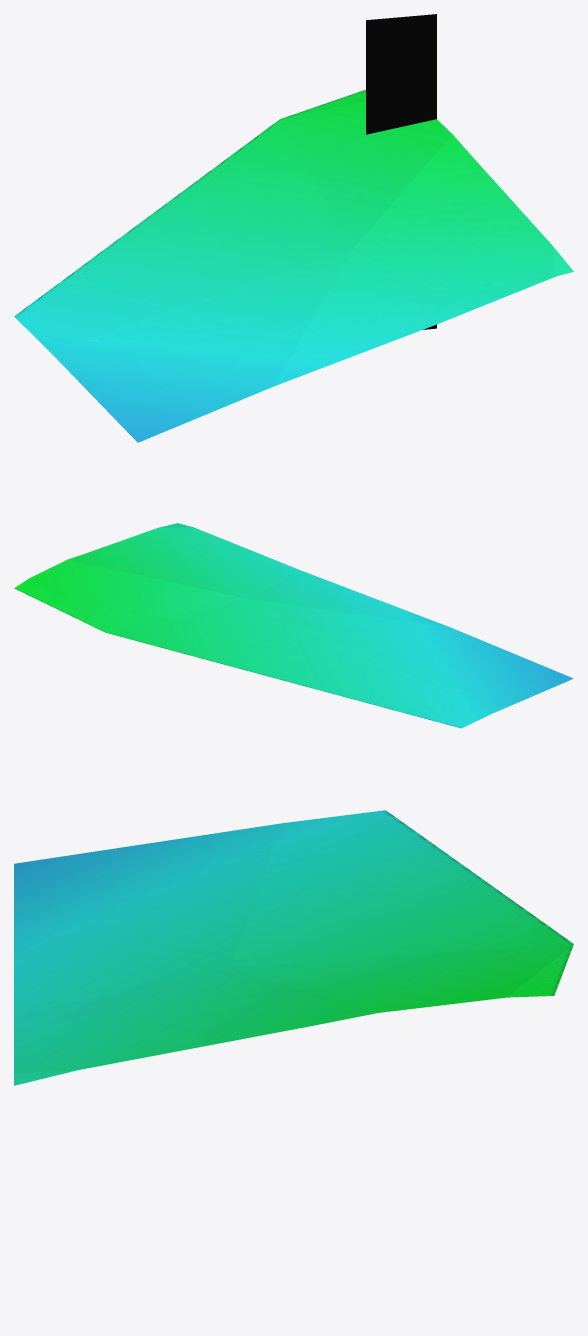
3 renders of one model, top to bottom at view 1: azimuth 30°, elevation 25°; view 2: azimuth 150°, elevation 25°; view 3: azimuth 270°, elevation 25°, orthographic. The views are drawn at different scales.
Bounding box in the file's own units: 13.06 × 9 × 9.68.
Materials: 3 (3 with a texture image).
